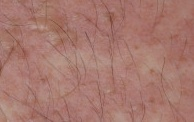SJS-TEN: (21, 9, 76, 56)
